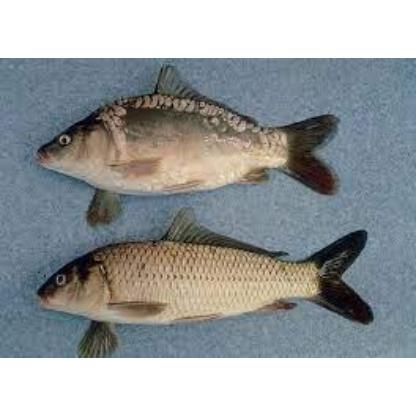ikan-mas: (32, 71, 340, 205), (37, 227, 367, 333)
